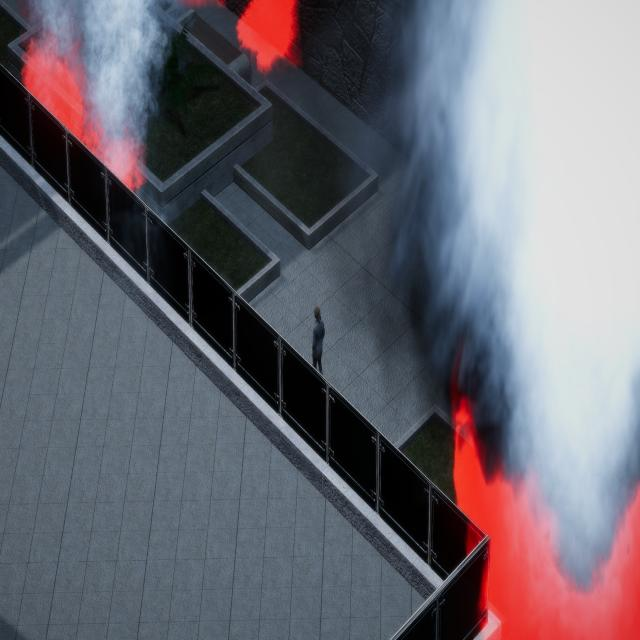Human: (299, 290, 338, 404)
